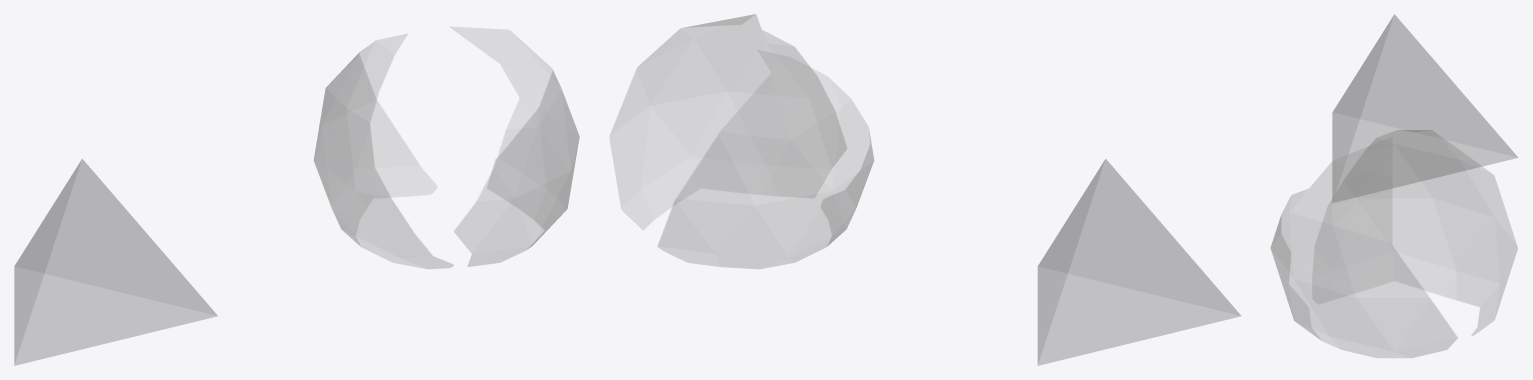
Rendered from frosted glass.fbx.
The picture shows the model from 3 angles, left to right: view 1: azimuth 30°, elevation 25°; view 2: azimuth 150°, elevation 25°; view 3: azimuth 270°, elevation 25°; orthographic projection. The views are drawn at different scales.
Parts seen in each view (by area): view 1: Icosphere, Cone; view 2: Icosphere, Cone; view 3: Icosphere, Cone.
Boxes of the visible parts, x1,y1,x2,y2 form: Icosphere: [314, 27, 579, 268]; Cone: [14, 159, 217, 365]; Icosphere: [610, 14, 873, 268]; Cone: [1038, 159, 1240, 365]; Icosphere: [1270, 130, 1517, 357]; Cone: [1332, 14, 1517, 202].
Size of the model in its own units: 491 by 200 by 200.
Materials: 1 (1 with a texture image).
